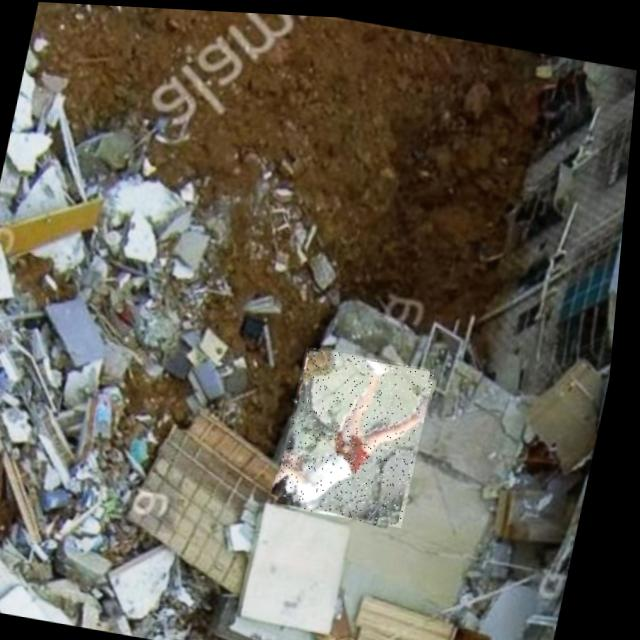Person in Rubble: (279, 341, 441, 523)
